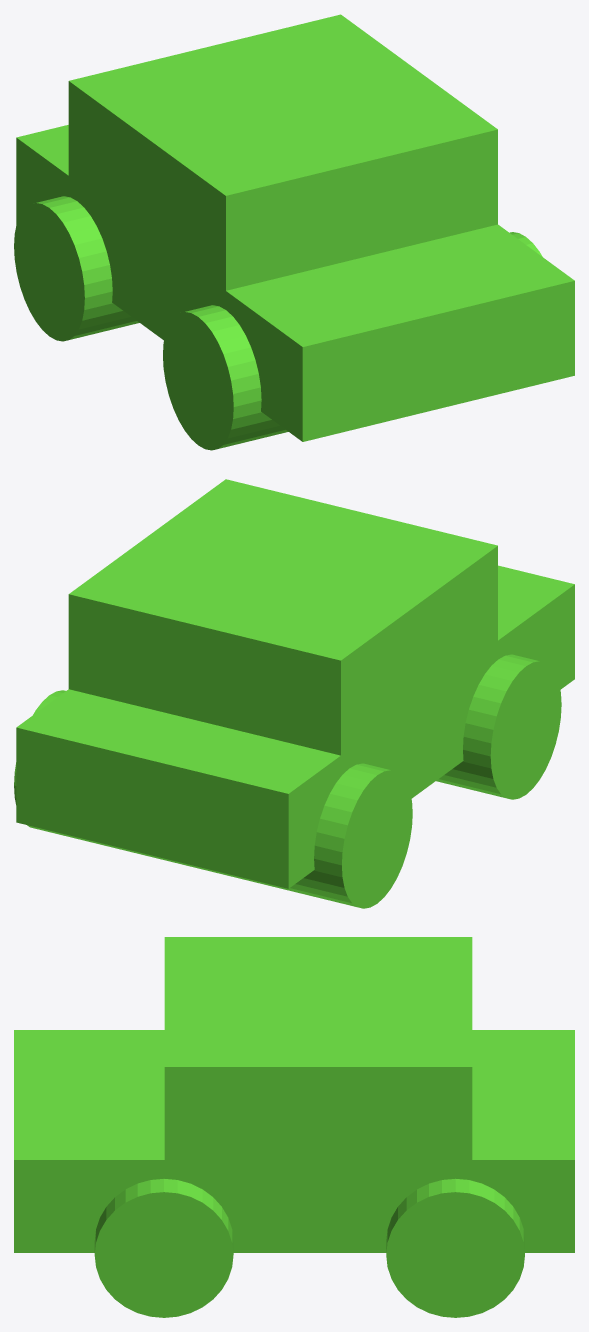
The model's file is CARRO.fbx.
3 renders of one model, top to bottom at view 1: azimuth 30°, elevation 25°; view 2: azimuth 150°, elevation 25°; view 3: azimuth 270°, elevation 25°, orthographic. The views are drawn at different scales.
Visible parts, largest first — view 1: CARRO; view 2: CARRO; view 3: CARRO.
Part boxes in pixels (x1,y1,x2,y2): CARRO: (14,14,574,450); CARRO: (14,479,574,908); CARRO: (14,937,574,1317).
Size of the model in its own units: 449 by 317 by 679.
